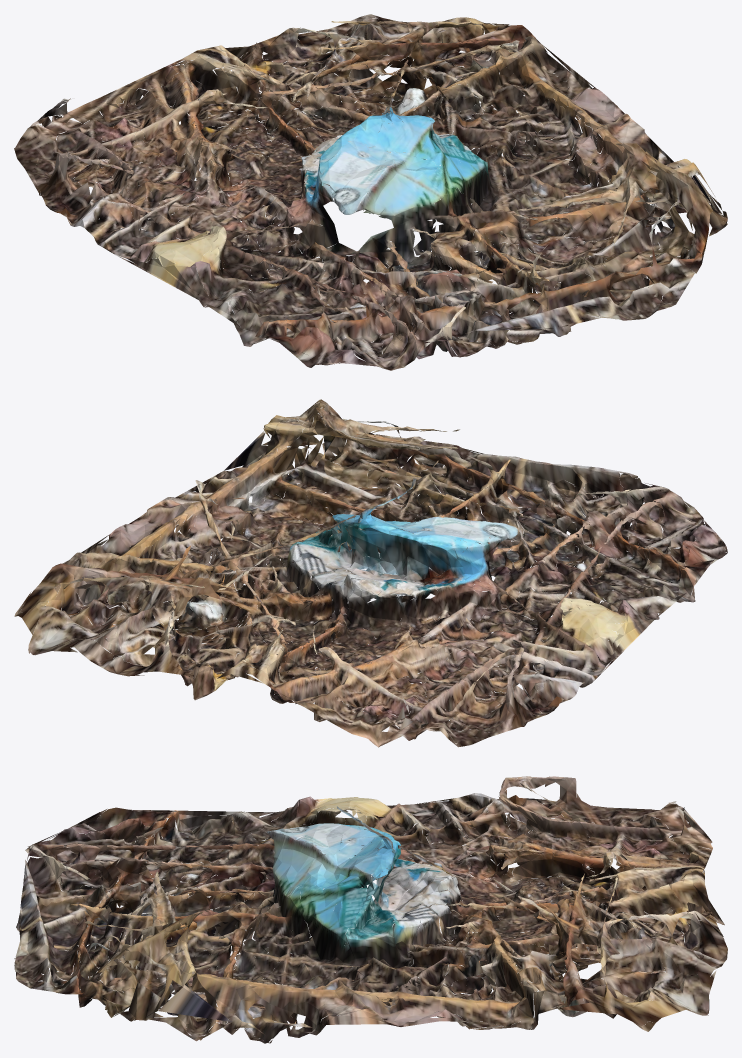
Rendered from modello2.glb.
The picture shows the model from 3 angles, top to bottom: view 1: azimuth 30°, elevation 25°; view 2: azimuth 150°, elevation 25°; view 3: azimuth 270°, elevation 25°; orthographic projection. The views are drawn at different scales.
Visible parts, largest first — view 1: mesh.007; view 2: mesh.007; view 3: mesh.007.
Boxes of the visible parts, box(x1,y1,x2,y2) form: mesh.007: box(14, 14, 727, 370); mesh.007: box(14, 399, 727, 747); mesh.007: box(14, 776, 727, 1043).
Size of the model in its own units: 0.2773 by 0.0673 by 0.3336.
Materials: 1 (1 with a texture image).
